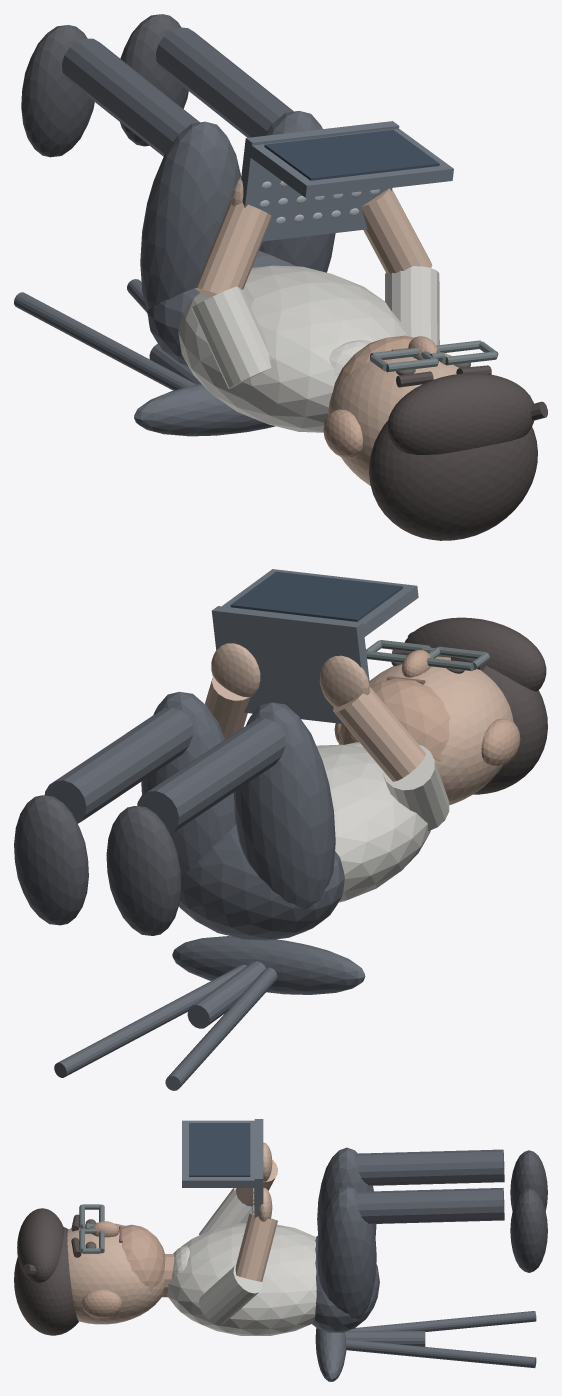
File: badal_portfolio_avatar.glb
3 renders of one model, top to bottom at view 1: azimuth 30°, elevation 25°; view 2: azimuth 150°, elevation 25°; view 3: azimuth 270°, elevation 25°, orthographic. The views are drawn at different scales.
Parts seen in each view (by area): view 1: shirt_torso, hair_cap, left_thigh, hair_quiff, left_shin, right_shin, laptop_base, left_shoe, laptop_display, left_upper_arm, face, chair_seat (+12 smaller); view 2: left_thigh, laptop_base, shirt_torso, pelvis, right_shoe, left_shoe, left_shin, right_shin, face, chair_seat, laptop_display, right_thigh (+14 smaller); view 3: shirt_torso, right_thigh, face, left_shin, right_shin, hair_cap, laptop_display, hair_quiff, right_shoe, chair_leg_right, right_upper_arm, jaw (+16 smaller).
Boxes of the visible parts, x1=… form: shirt_torso: x1=178, y1=265, x2=409, y2=432; hair_cap: x1=369, y1=421, x2=537, y2=540; left_thigh: x1=140, y1=121, x2=240, y2=315; hair_quiff: x1=387, y1=373, x2=533, y2=454; left_shin: x1=62, y1=38, x2=199, y2=156; right_shin: x1=156, y1=27, x2=293, y2=137; laptop_base: x1=241, y1=121, x2=399, y2=241; left_shoe: x1=21, y1=25, x2=94, y2=157; laptop_display: x1=264, y1=129, x2=439, y2=180; left_upper_arm: x1=191, y1=286, x2=271, y2=388; face: x1=328, y1=353, x2=459, y2=485; chair_seat: x1=134, y1=383, x2=275, y2=436; left_thigh: x1=233, y1=702, x2=335, y2=909; laptop_base: x1=211, y1=606, x2=370, y2=723; shirt_torso: x1=316, y1=744, x2=430, y2=902; pelvis: x1=179, y1=824, x2=344, y2=940; right_shoe: x1=14, y1=795, x2=88, y2=925; left_shoe: x1=106, y1=806, x2=181, y2=935; left_shin: x1=137, y1=718, x2=285, y2=834; right_shin: x1=44, y1=707, x2=192, y2=823; face: x1=339, y1=656, x2=513, y2=805; chair_seat: x1=172, y1=936, x2=365, y2=994; laptop_display: x1=230, y1=571, x2=402, y2=621; right_thigh: x1=141, y1=691, x2=235, y2=879; shirt_torso: x1=167, y1=1223, x2=316, y2=1335; right_thigh: x1=317, y1=1186, x2=376, y2=1318; face: x1=67, y1=1222, x2=164, y2=1324; left_shin: x1=357, y1=1149, x2=504, y2=1185; right_shin: x1=357, y1=1187, x2=504, y2=1223; hair_cap: x1=14, y1=1227, x2=78, y2=1335; laptop_display: x1=189, y1=1123, x2=250, y2=1176; hair_quiff: x1=17, y1=1208, x2=64, y2=1282; right_shoe: x1=510, y1=1188, x2=547, y2=1272; chair_leg_right: x1=346, y1=1339, x2=536, y2=1368; right_upper_arm: x1=199, y1=1265, x2=262, y2=1324; jaw: x1=121, y1=1224, x2=165, y2=1291.
Size of the model in its own units: 1.17 by 1.6 by 3.4.
